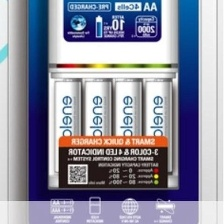battery: (108, 74, 145, 177), (79, 77, 115, 177), (139, 74, 174, 175), (52, 76, 83, 175)
